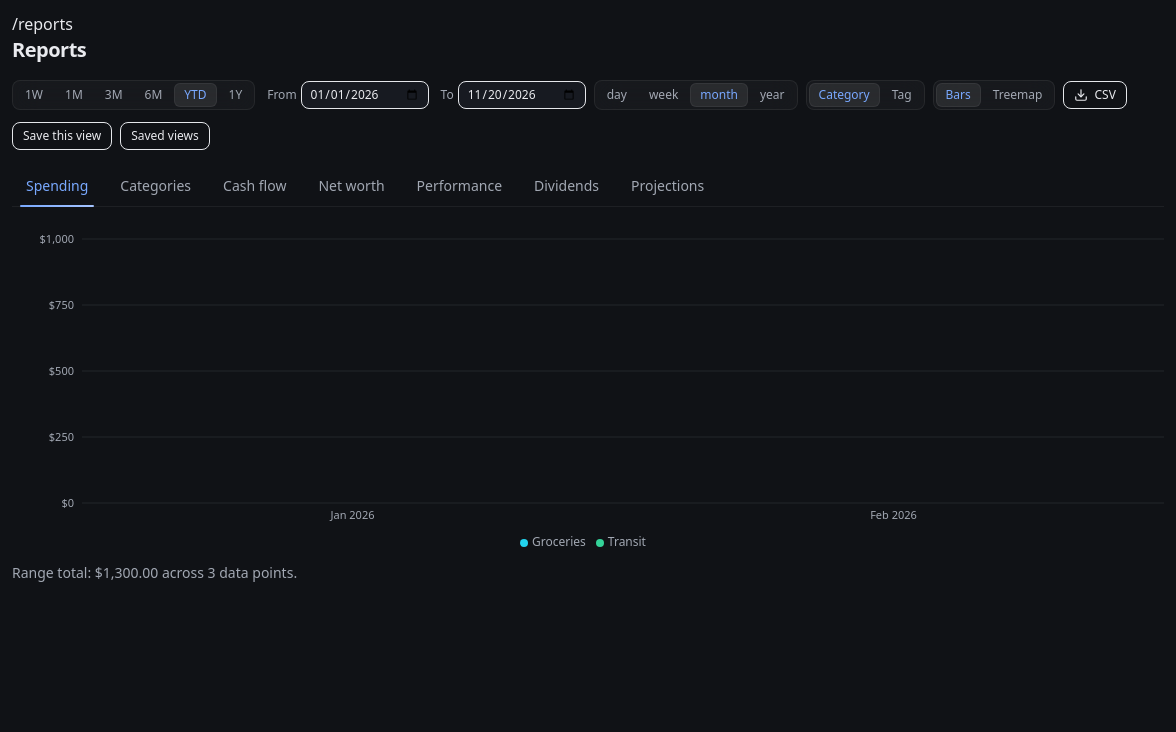
it: M108 P1 — Spending tab chart view (docs/12 §Chart mapping) › a block/legend press drills into that category's PERIOD breakdown (M124 R2)
This screenshot has width=1176, height=732.
expect the picture named "Spending by category" is shown: met, box [12, 231, 1164, 551]
Click the tab "Treemap".
click(1018, 95)  # box [983, 83, 1052, 107]
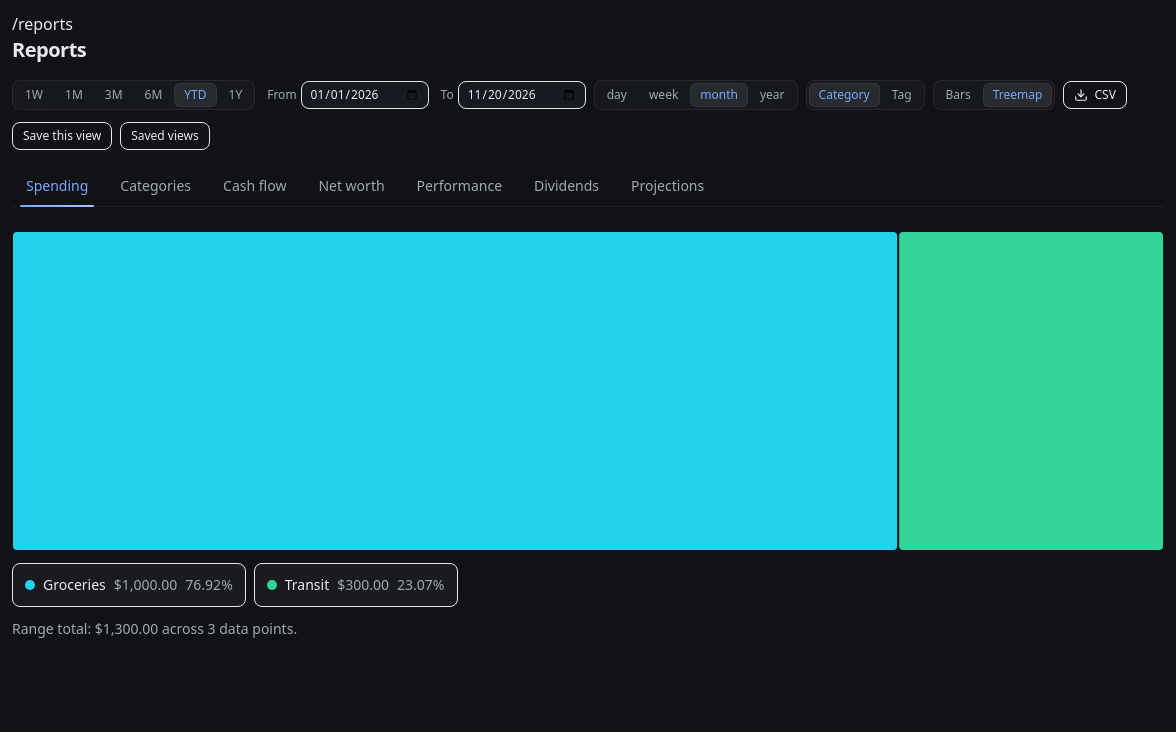
Click the button with aria-label "Transit —".
click(356, 585)  # box [254, 563, 458, 607]
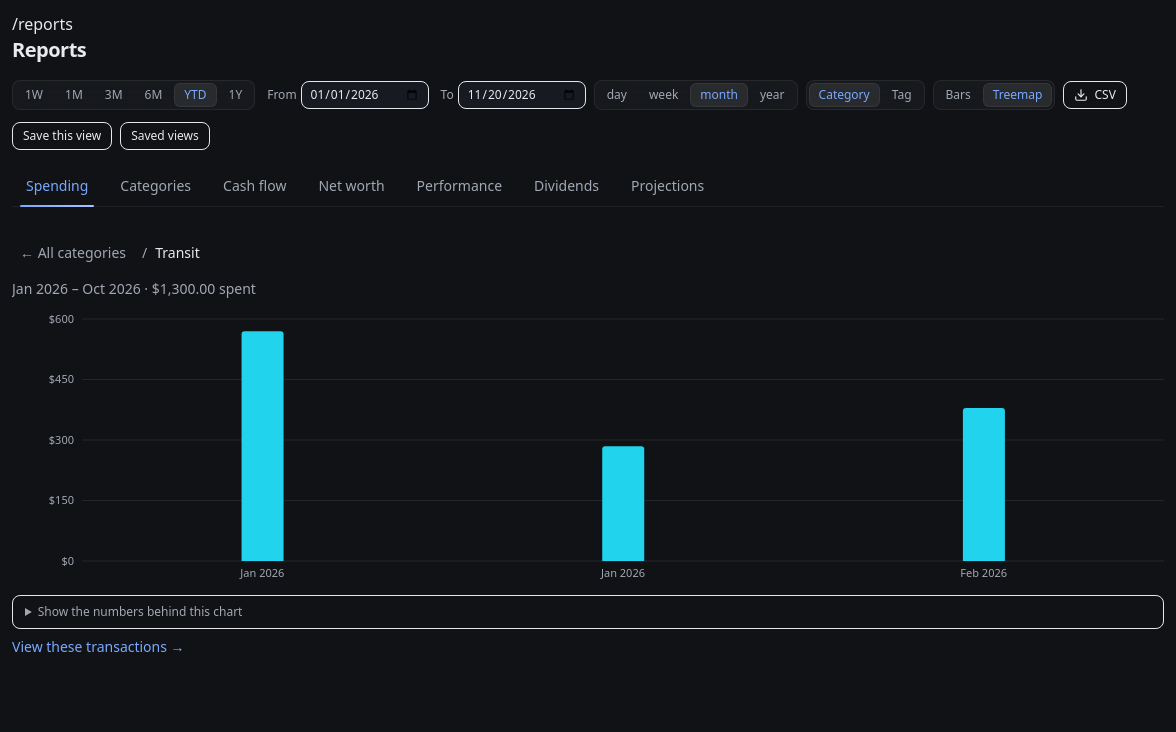
expect the navigation bar named "Breadcrumb" shows "Transit": met, box [155, 243, 200, 262]
expect the button "← All categories" is shown: met, box [12, 231, 134, 275]
expect the heading "Show the numbers behind this chart" is shown: met, box [38, 603, 242, 620]
